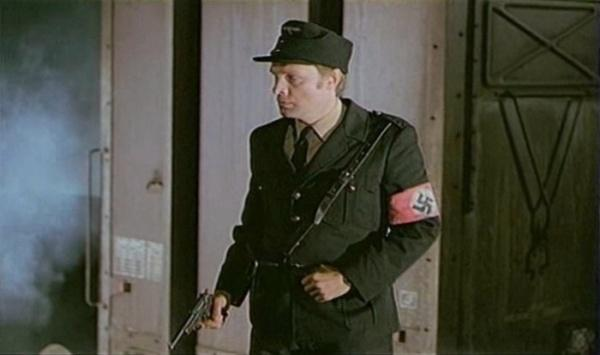Gun: (168, 292, 217, 350)
